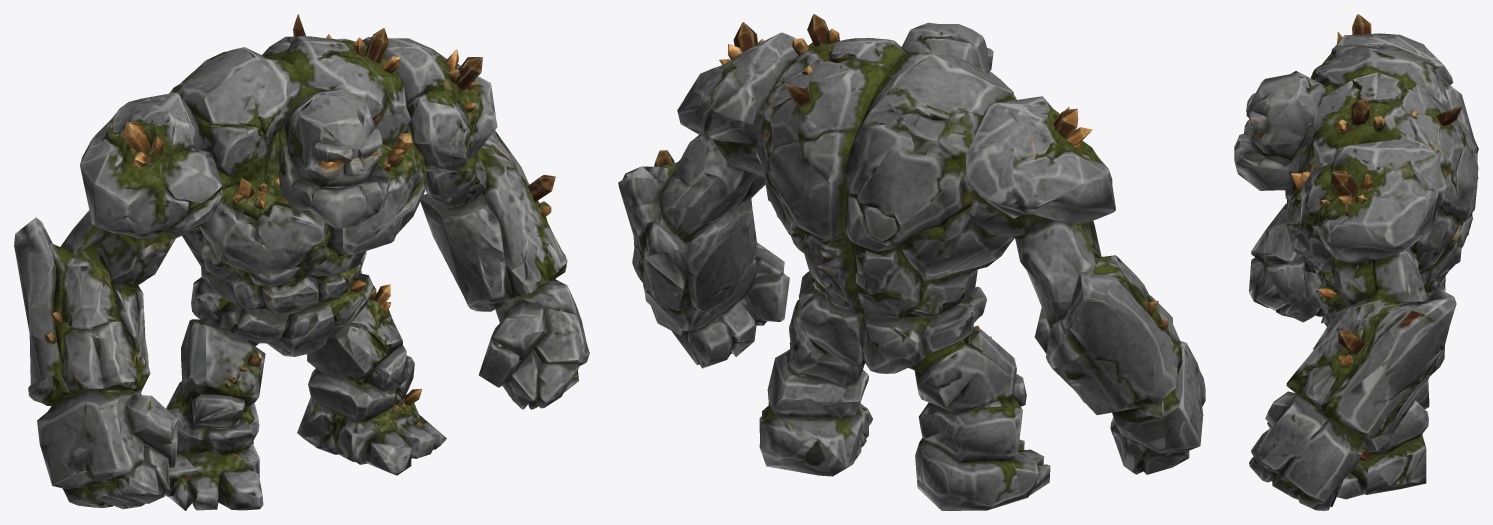
File: stoneborn.glb
3 renders of one model, left to right at view 1: azimuth 30°, elevation 25°; view 2: azimuth 150°, elevation 25°; view 3: azimuth 270°, elevation 25°, orthographic. The views are drawn at different scales.
Visible parts, largest first — view 1: Mesh_0; view 2: Mesh_0; view 3: Mesh_0.
Boxes of the visible parts, x1,y1,x2,y2 form: Mesh_0: (14, 14, 589, 510); Mesh_0: (618, 14, 1205, 510); Mesh_0: (1234, 14, 1478, 510).
Size of the model in its own units: 1.9 by 1.43 by 0.8339.
Materials: 1 (1 with a texture image).
